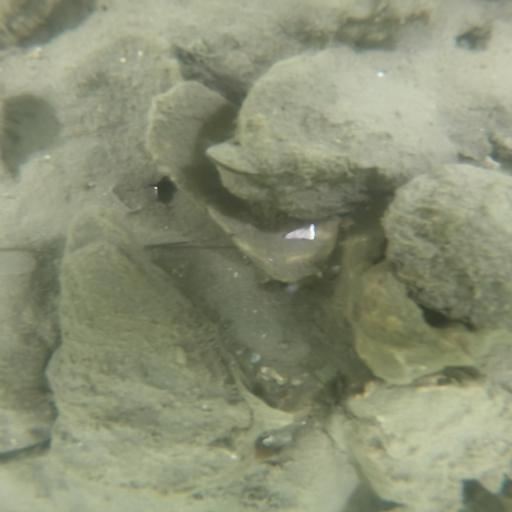Oyster-Closed: (214, 51, 500, 220), (51, 238, 245, 484), (385, 170, 508, 337), (337, 384, 507, 504), (5, 250, 56, 448), (1, 2, 56, 41)
